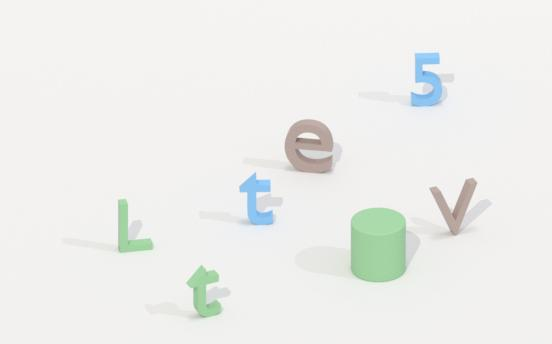5: (409, 49, 444, 110)
e: (282, 115, 337, 176)
l: (107, 195, 155, 258)
t: (236, 170, 280, 231), (181, 263, 226, 322)
tru: (347, 203, 410, 284)
v: (429, 172, 477, 239)
